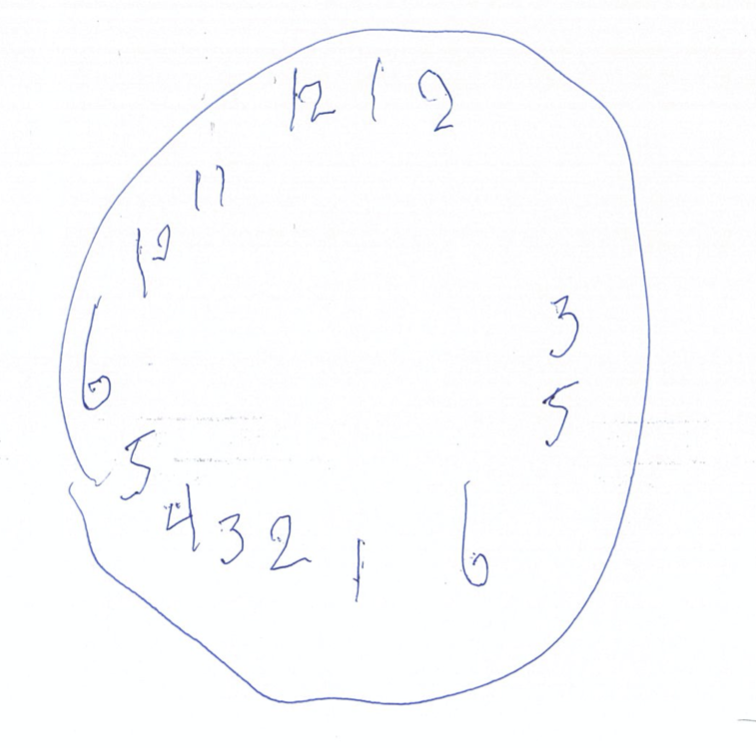1: (365, 55, 386, 127)
10: (130, 223, 176, 297)
11: (187, 160, 230, 216)
12: (284, 64, 335, 132)
2: (412, 67, 465, 134), (262, 508, 311, 572)
3: (542, 290, 581, 361), (216, 510, 245, 570)
4: (162, 478, 202, 556)
5: (533, 378, 580, 451), (115, 423, 158, 501)
6: (452, 480, 496, 591), (75, 294, 116, 412)
contour: (50, 21, 658, 707)
